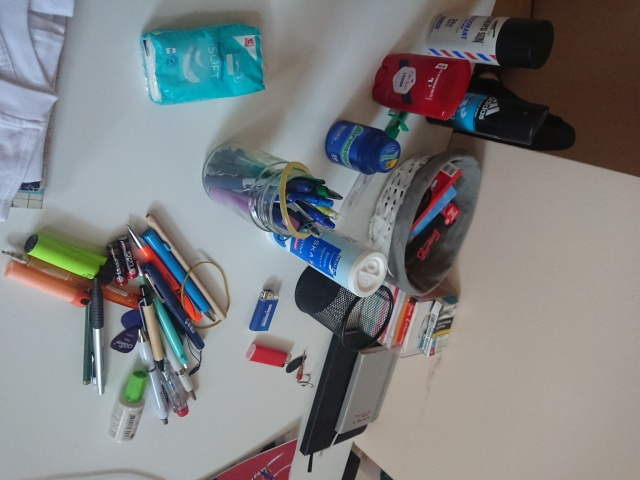Solana Pag Fine Sea Salt 250g: (265, 206, 390, 301)
